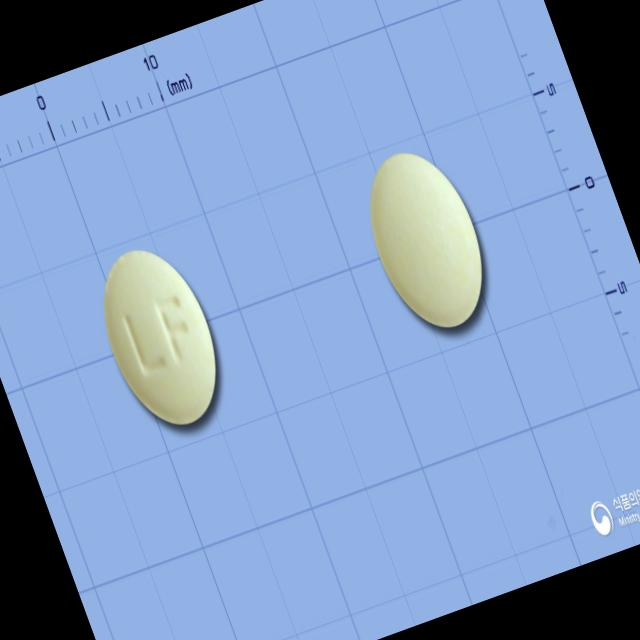Levofloxacin Tab- Dongsung: (81, 232, 239, 440)
